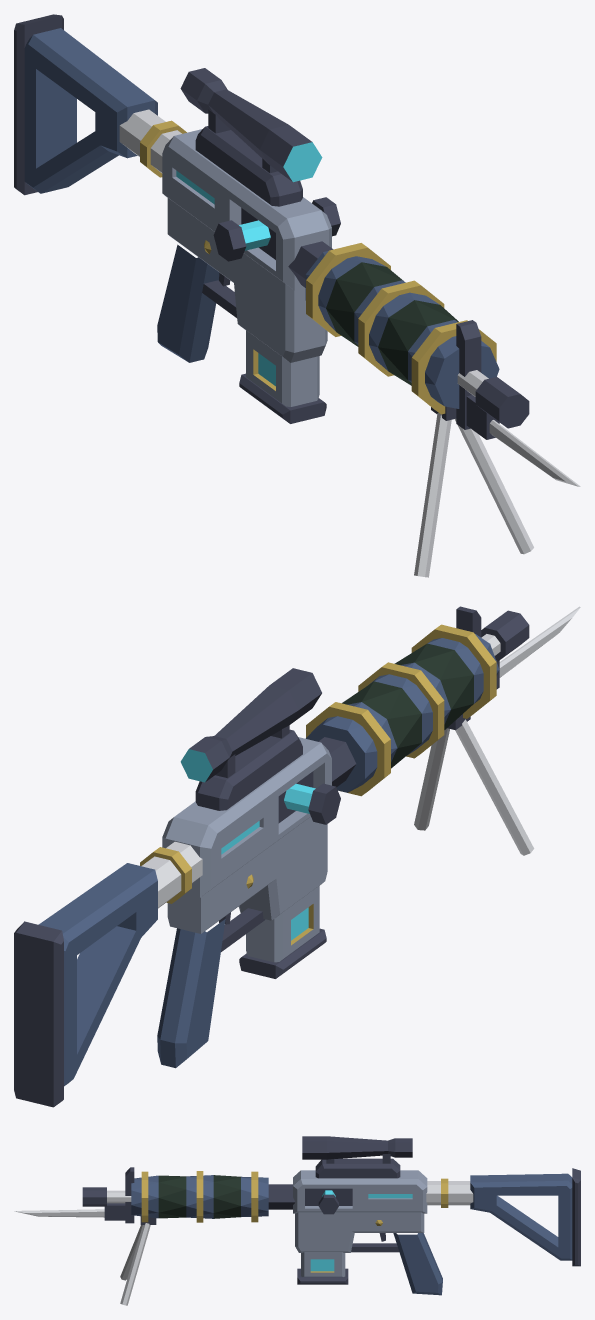
File: rifle-df1815.glb
The picture shows the model from 3 angles, top to bottom: view 1: azimuth 30°, elevation 25°; view 2: azimuth 150°, elevation 25°; view 3: azimuth 270°, elevation 25°; orthographic projection. The views are drawn at different scales.
Visible parts, largest first — view 1: rifle-matte, rifle-metal, magazine-matte, rifle-crystal, magazine-metal; view 2: rifle-matte, rifle-metal, magazine-matte, rifle-crystal, magazine-metal; view 3: rifle-matte, rifle-metal, magazine-matte, magazine-metal, magazine-crystal, rifle-crystal.
Boxes of the visible parts, left/top/right/bottom form: rifle-matte: left=24, top=28, right=499, bottom=408; rifle-metal: left=14, top=14, right=580, bottom=577; magazine-matte: left=246, top=330, right=319, bottom=406; rifle-crystal: left=176, top=142, right=322, bottom=250; magazine-metal: left=239, top=349, right=326, bottom=423; rifle-matte: left=38, top=634, right=499, bottom=1086; rifle-metal: left=14, top=606, right=580, bottom=1107; magazine-matte: left=246, top=885, right=319, bottom=962; rifle-crystal: left=180, top=749, right=315, bottom=854; magazine-metal: left=239, top=904, right=326, bottom=978; rifle-matte: left=131, top=1170, right=572, bottom=1295; rifle-metal: left=14, top=1136, right=580, bottom=1305; magazine-matte: left=301, top=1252, right=345, bottom=1276; magazine-metal: left=297, top=1268, right=348, bottom=1284; magazine-crystal: left=310, top=1259, right=334, bottom=1271; rifle-crystal: left=322, top=1190, right=412, bottom=1198.
Size of the model in its own units: 0.1431 by 0.3488 by 1.16.
